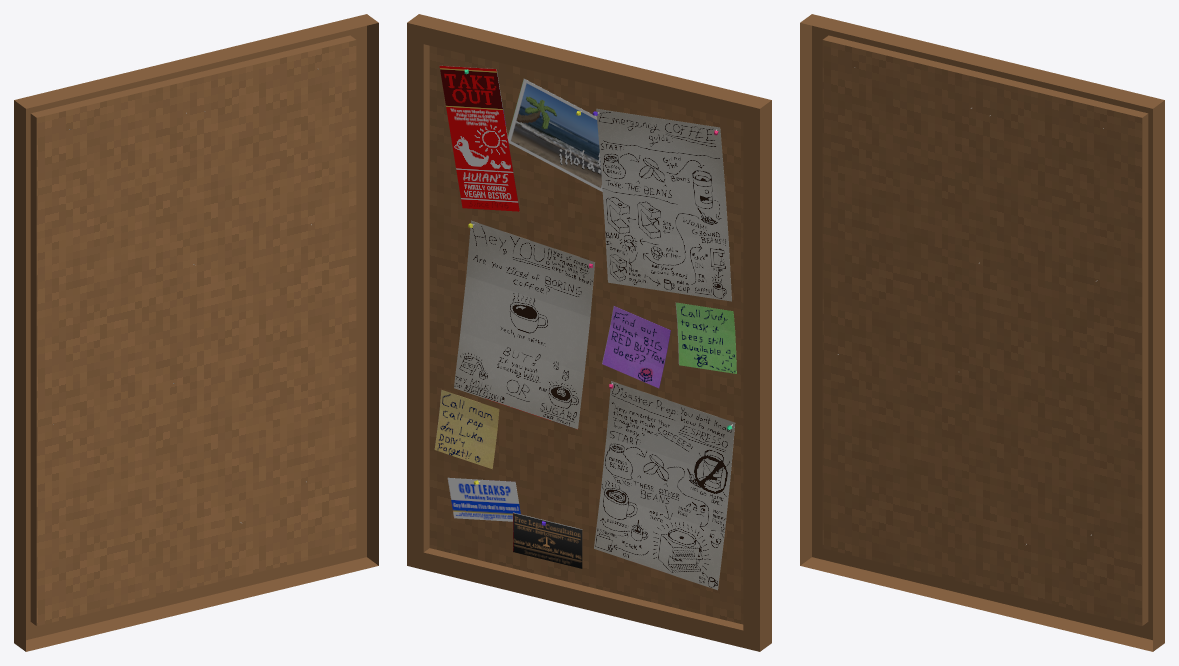
File: Corkboard (1).fbx
The picture shows the model from 3 angles, left to right: view 1: azimuth 30°, elevation 25°; view 2: azimuth 150°, elevation 25°; view 3: azimuth 330°, elevation 25°; orthographic projection.
Visible parts, largest first — view 1: Corkboard; view 2: Corkboard, Paper_3, Paper_2, Paper_1, TakeoutMenu, Postcard, Sticky_A, Sticky_C, Sticky_B, BusinessCard_A, BusinessCard_B; view 3: Corkboard.
Part boxes in pixels (x1=…): Corkboard: x1=14, y1=14, x2=378, y2=651; Corkboard: x1=407, y1=14, x2=771, y2=651; Paper_3: x1=594, y1=381, x2=735, y2=590; Paper_2: x1=454, y1=220, x2=594, y2=429; Paper_1: x1=592, y1=108, x2=731, y2=301; TakeoutMenu: x1=439, y1=65, x2=519, y2=211; Postcard: x1=507, y1=78, x2=602, y2=191; Sticky_A: x1=602, y1=306, x2=670, y2=388; Sticky_C: x1=434, y1=389, x2=499, y2=469; Sticky_B: x1=675, y1=302, x2=736, y2=373; BusinessCard_A: x1=513, y1=512, x2=582, y2=568; BusinessCard_B: x1=447, y1=477, x2=520, y2=521; Corkboard: x1=800, y1=14, x2=1164, y2=651.
Bounding box in the file's own units: 85 × 125 × 5.
Materials: 2 (2 with a texture image).
